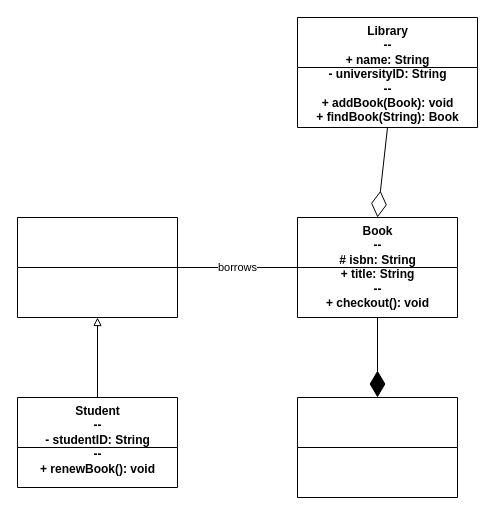
Image size: 495x515. Some labels were removed from this diagram. The shapes that lost their labels are listed below. From the top down, each one's box as (x1, y1, x2, y2) in pixels, then its label:
(16, 216, 178, 318): LibraryUser -- # userID: String # name: String -- + borrowItem(): void
(296, 396, 458, 498): Chapter -- - chapterNo: int - title: String -- + getPageCount(): int
